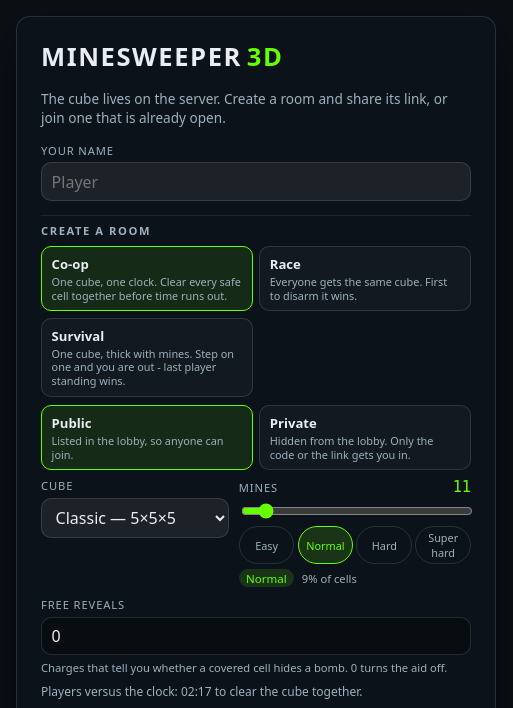
it: WelcomeScreen › switching mode recommends that mode's difficulty
This screenshot has width=513, height=708.
What coordinates should you click on to do the following:
click the button with test id "welcome-mode-survival"
I would click on:
 (147, 357)
Its box is 41,318 -> 253,397.
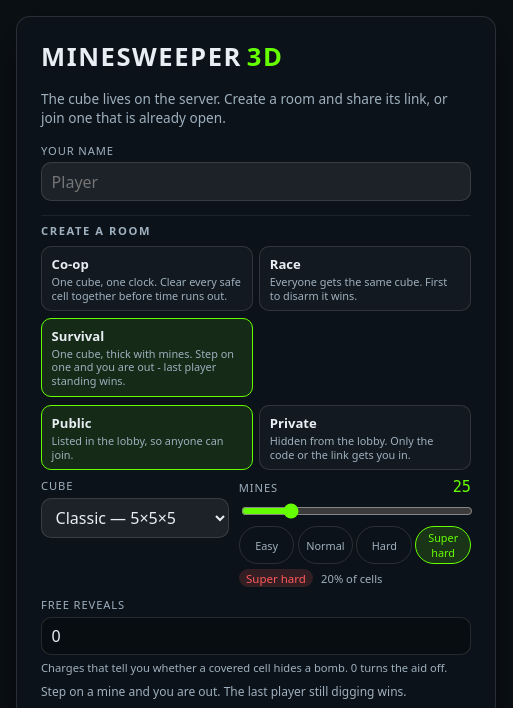
Now the text with test id "welcome-mines-value" reads "25", box 453,478 -> 471,496
